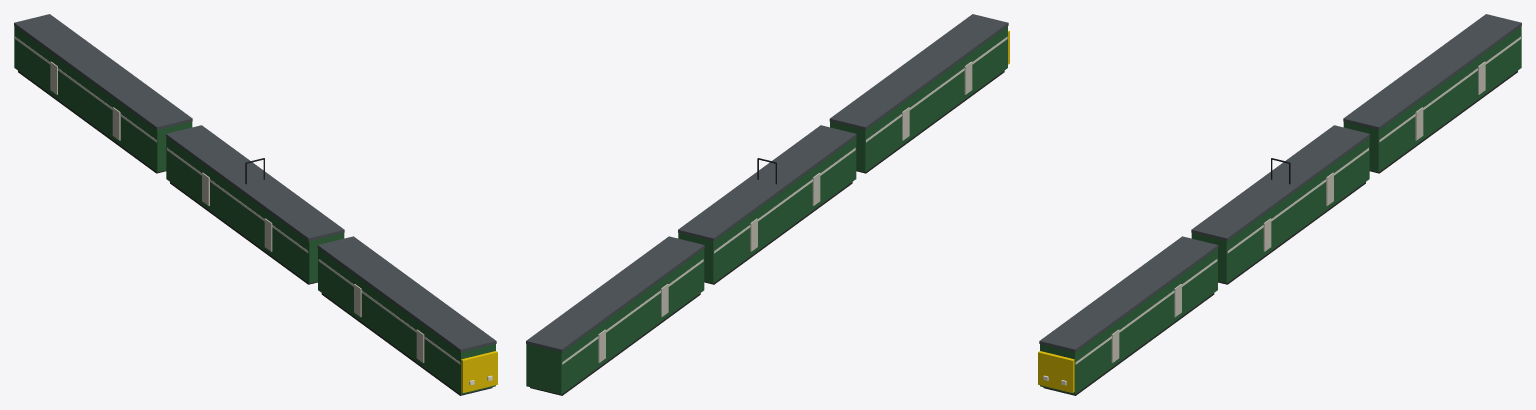
The model's file is train-southern.glb.
3 views of the same model, side by side, from view 1: azimuth 30°, elevation 25°; view 2: azimuth 150°, elevation 25°; view 3: azimuth 330°, elevation 25° (orthographic).
Visible parts, largest first — view 1: train-southern; view 2: train-southern; view 3: train-southern.
Part boxes in pixels (left/top/right/bottom): train-southern: left=14, top=14, right=497, bottom=395; train-southern: left=526, top=14, right=1009, bottom=395; train-southern: left=1038, top=14, right=1521, bottom=395.
Bounding box in the file's own units: 2.88 × 5.17 × 60.38.
